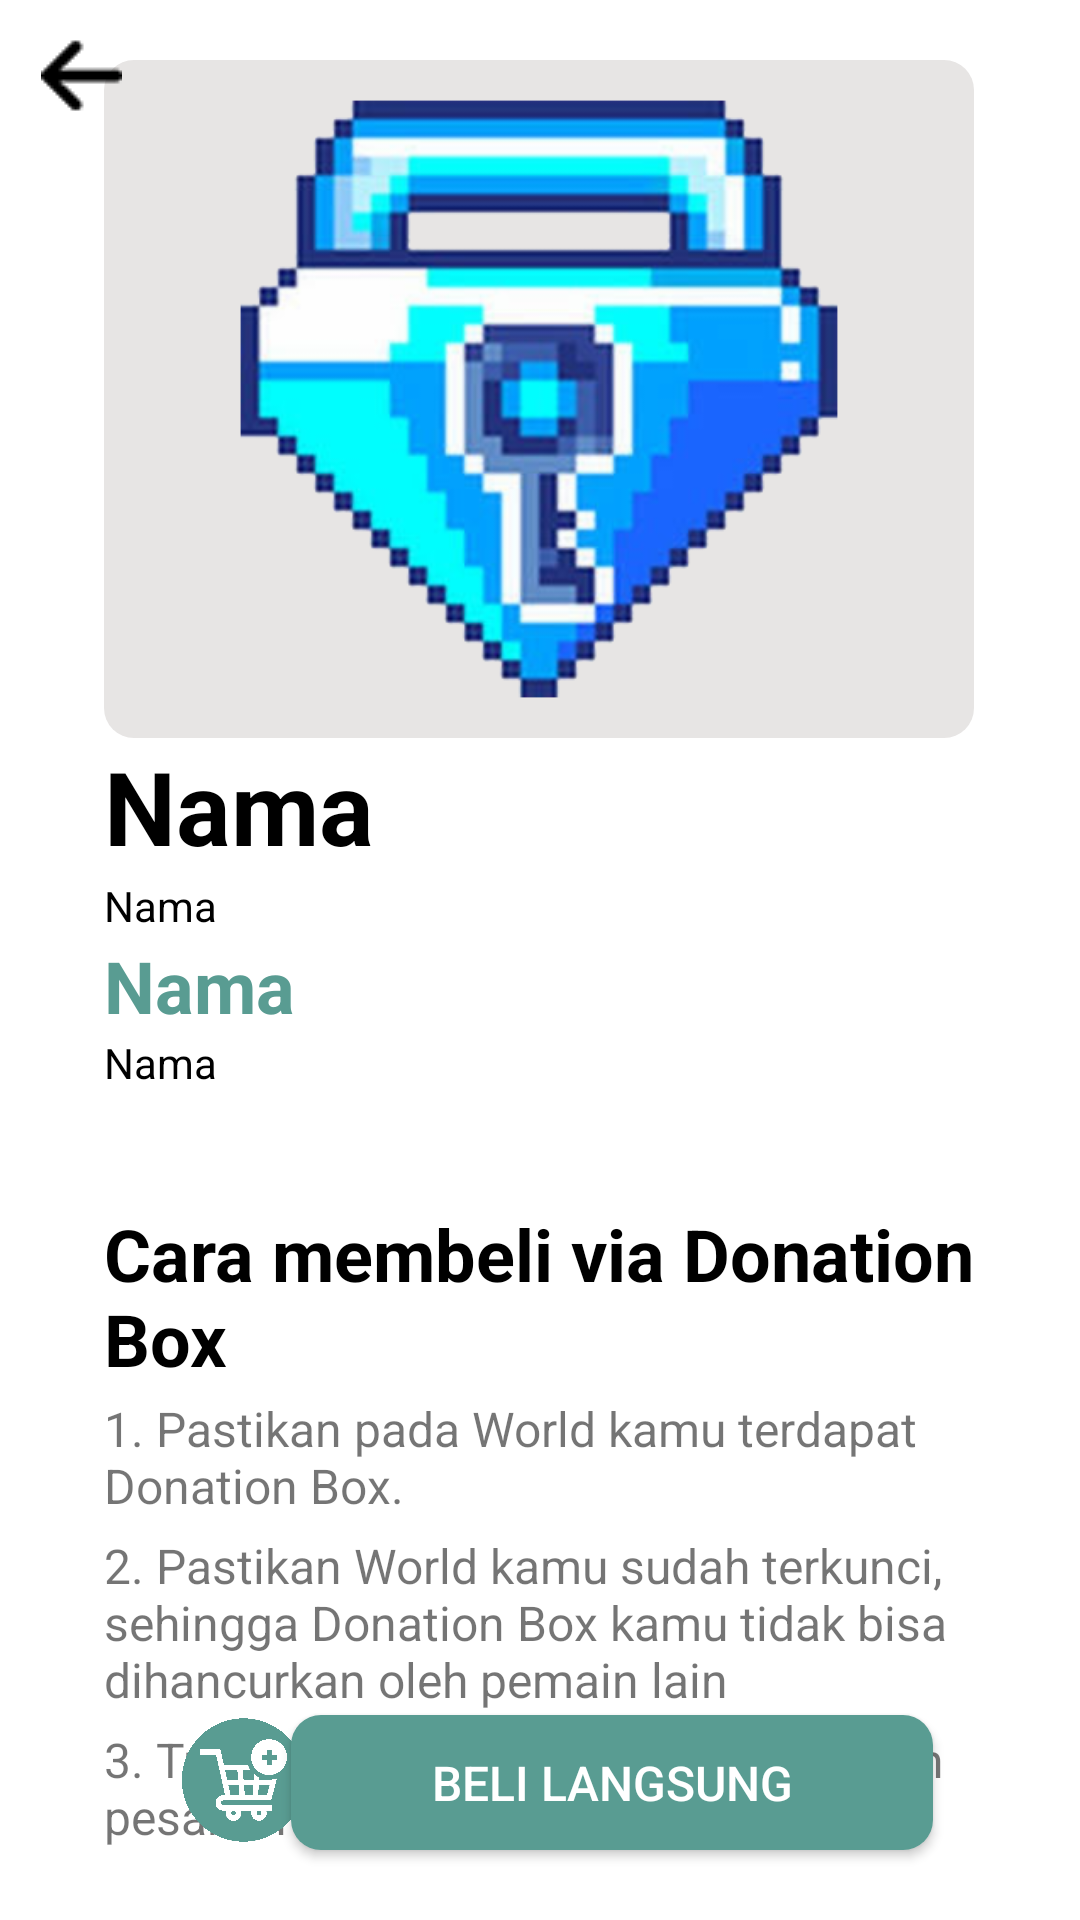

Icon bounding boxes for this 1080 x 1920 phone screenshot, format [x1, y1, x2, y2]:
addcart: [170, 1715, 317, 1849]
back: [41, 40, 122, 116]
